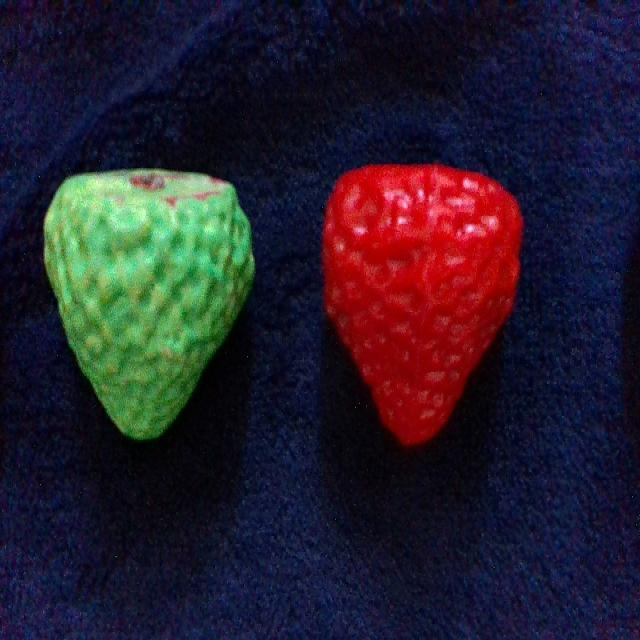chica_roja: (324, 165, 522, 443)
verde: (45, 169, 253, 439)
